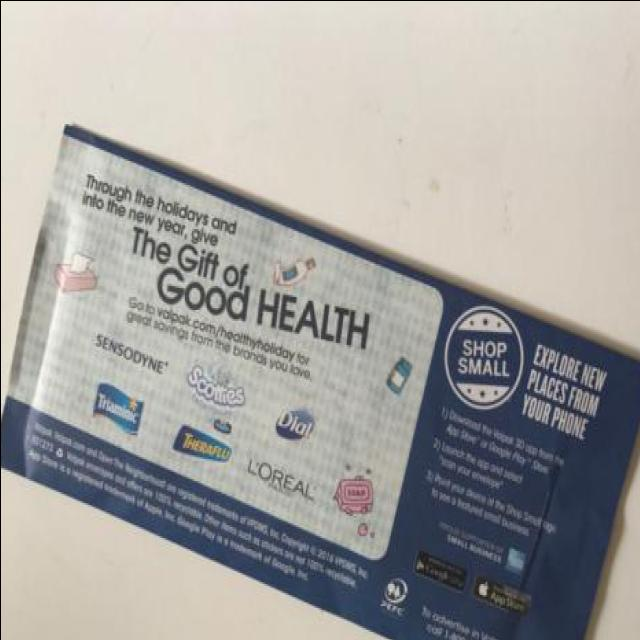kertas: (0, 119, 640, 640)
